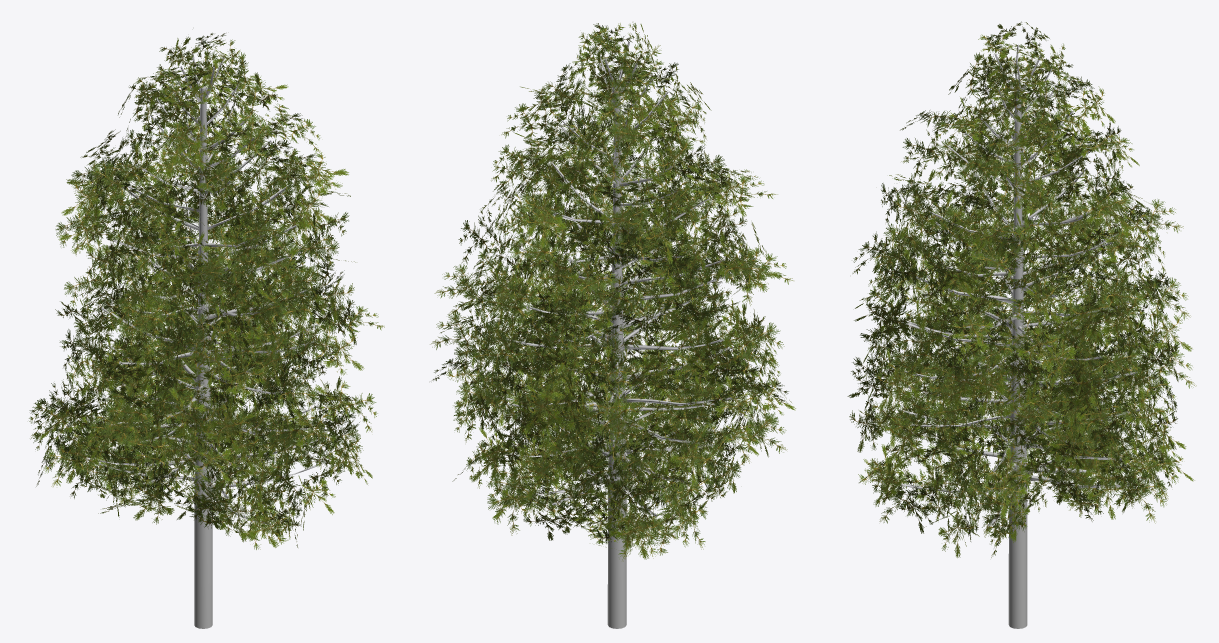
The model's file is Douglas_Fir_Model_0.obj.
3 views of the same model, side by side, from view 1: azimuth 30°, elevation 25°; view 2: azimuth 150°, elevation 25°; view 3: azimuth 270°, elevation 25° (orthographic).
Parts seen in each view (by area): view 1: Foliage__leafcard, Bark; view 2: Foliage__leafcard, Bark; view 3: Foliage__leafcard, Bark.
Boxes of the visible parts, box(x1,y1,x2,y2) form: Foliage__leafcard: box(29, 33, 384, 549); Bark: box(85, 51, 321, 628); Foliage__leafcard: box(430, 22, 795, 561); Bark: box(495, 42, 739, 628); Foliage__leafcard: box(847, 21, 1196, 557); Bark: box(898, 45, 1140, 628).
Bounding box in the file's own units: 33.62 × 60 × 33.31.
